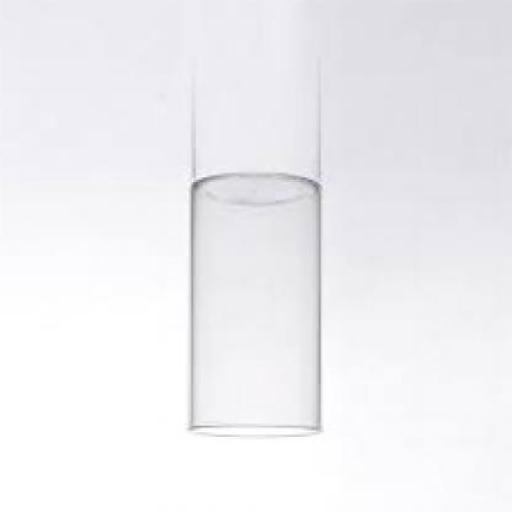glass: (191, 175, 323, 439)
